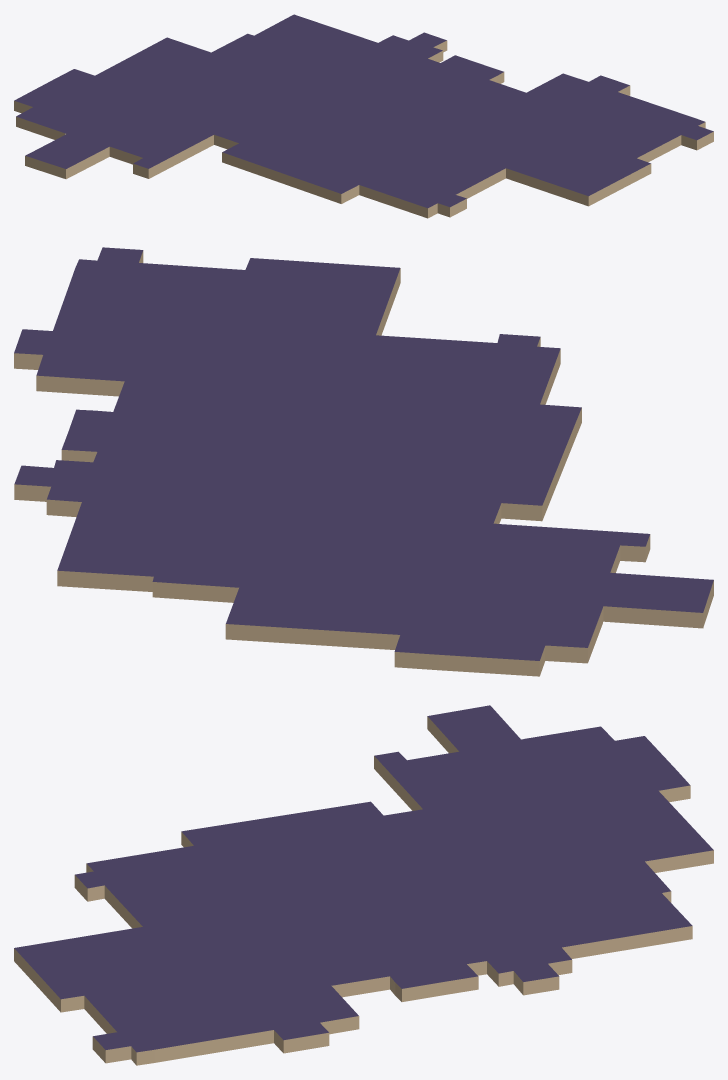
Rendered from b-134-day.glb.
The picture shows the model from 3 angles, top to bottom: view 1: azimuth 30°, elevation 25°; view 2: azimuth 150°, elevation 25°; view 3: azimuth 270°, elevation 25°; orthographic projection. The views are drawn at different scales.
Visible parts, largest first — view 1: campus/b-134-day-0; view 2: campus/b-134-day-0; view 3: campus/b-134-day-0.
Part boxes in pixels (x1=…): campus/b-134-day-0: x1=14, y1=14, x2=713, y2=218; campus/b-134-day-0: x1=14, y1=247, x2=713, y2=676; campus/b-134-day-0: x1=14, y1=705, x2=713, y2=1065.
Bounding box in the file's own units: 168 × 3 × 143.
